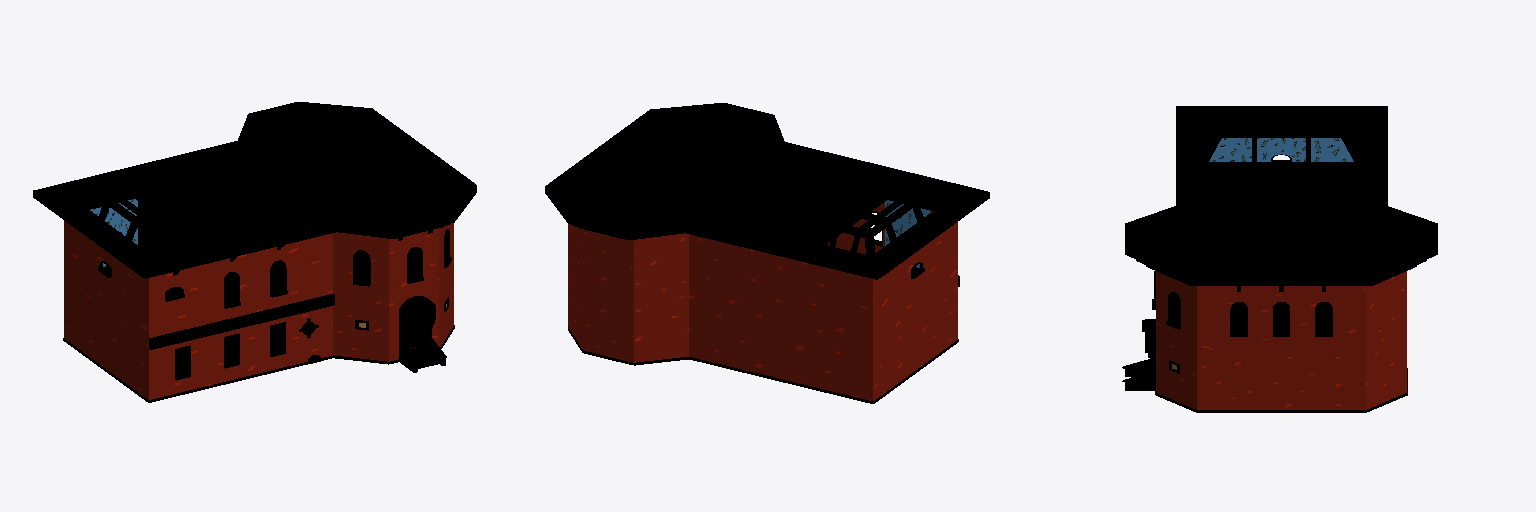
3 renders of one model, left to right at view 1: azimuth 30°, elevation 25°; view 2: azimuth 150°, elevation 25°; view 3: azimuth 270°, elevation 25°, orthographic.
Visible parts, largest first — view 1: polySurface732; view 2: polySurface732; view 3: polySurface732.
Part boxes in pixels (x1,y1,x2,y2): polySurface732: (33, 102, 476, 402); polySurface732: (545, 103, 989, 403); polySurface732: (1122, 106, 1437, 412).
Size of the model in its own units: 27.71 by 12.5 by 22.29.
11 materials, 3 textured.